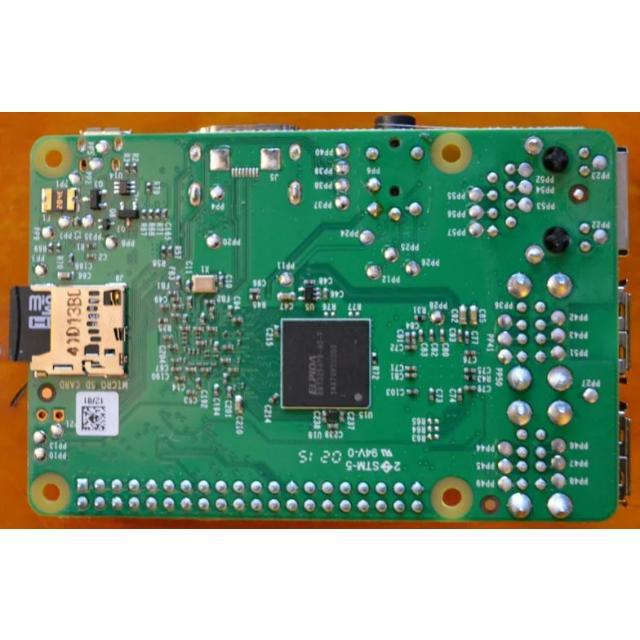Raspberry-Pi-2-B: (13, 118, 629, 522)
